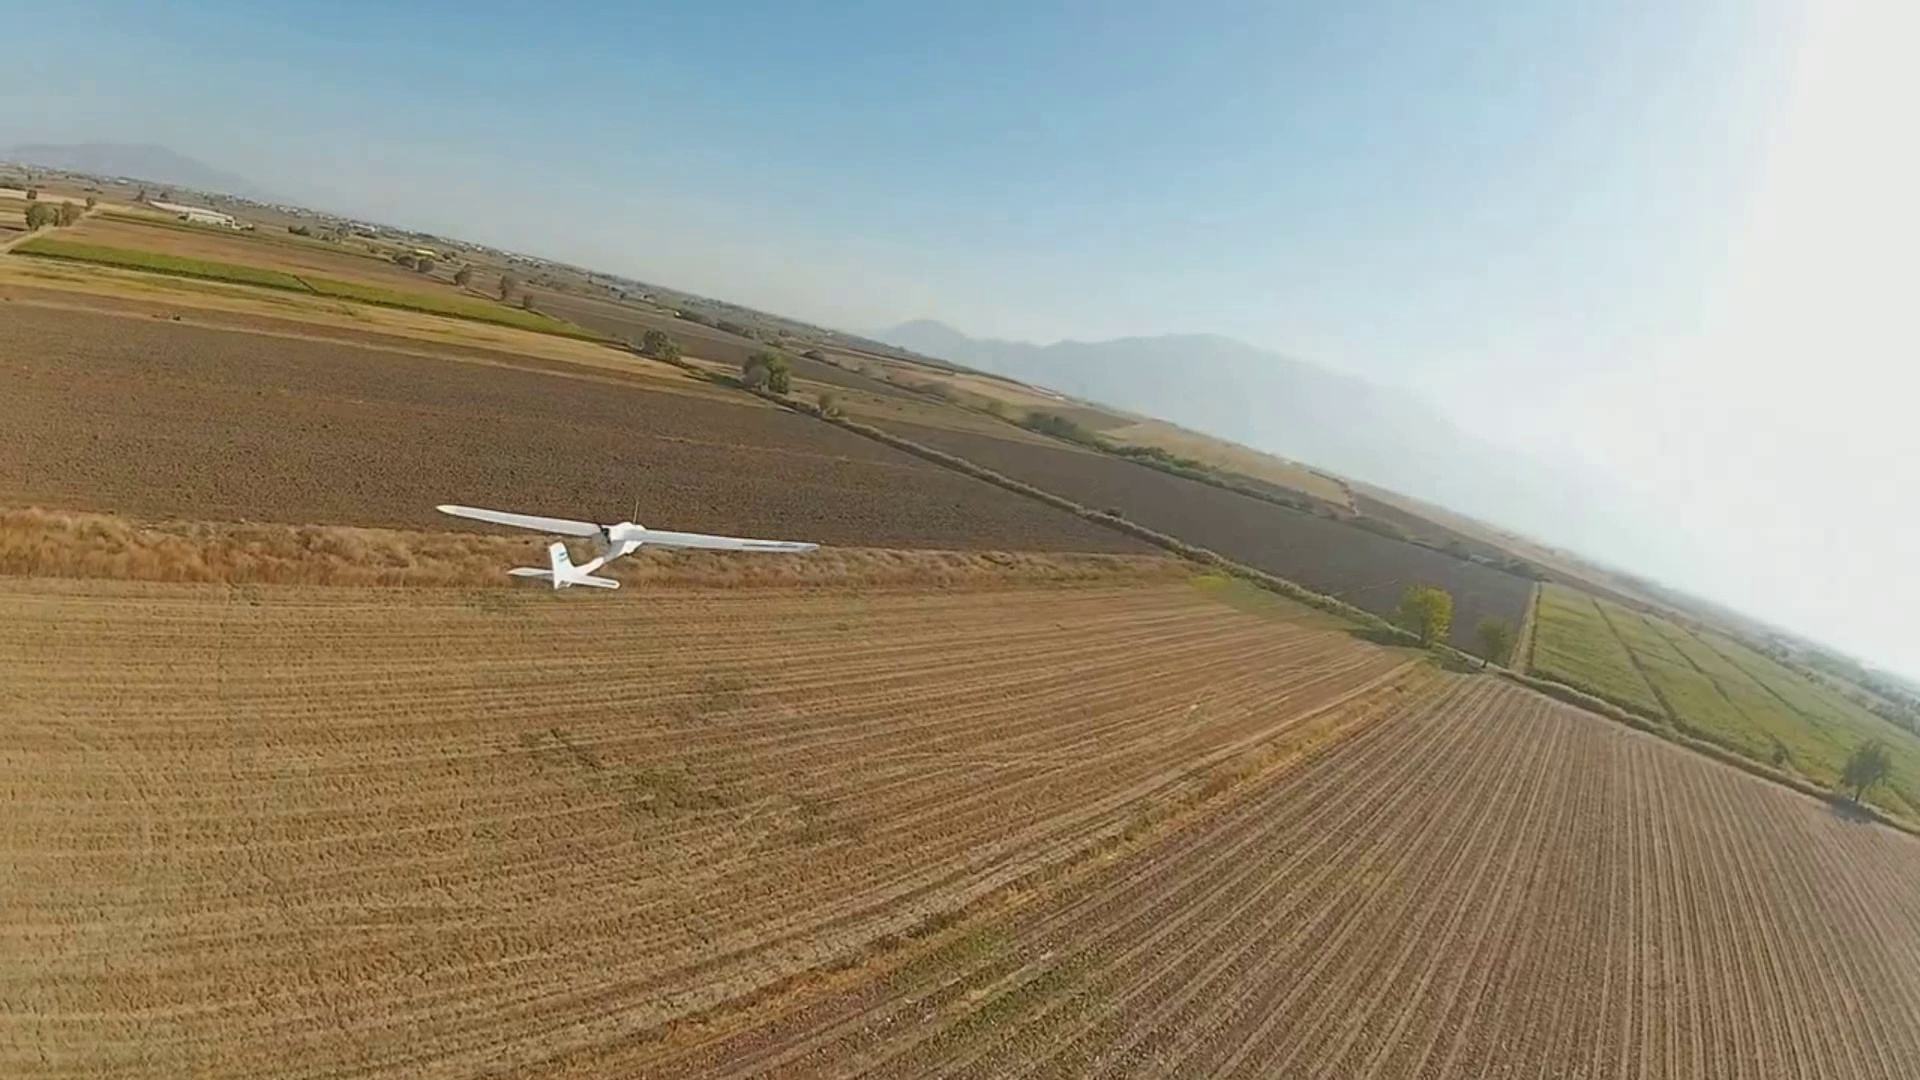airplane: (433, 492, 822, 597)
